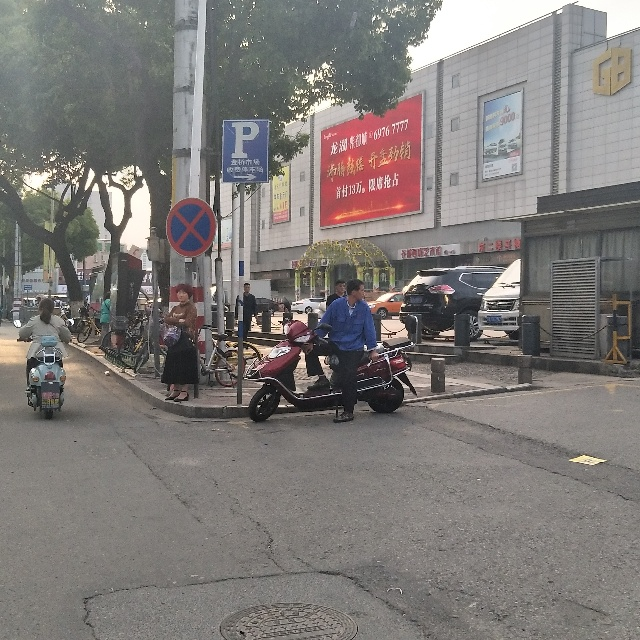stop: (162, 198, 218, 263)
